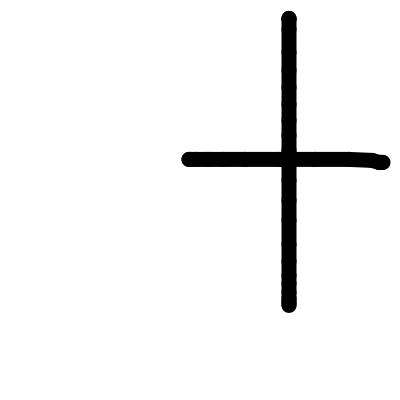plus: (182, 11, 390, 312)
